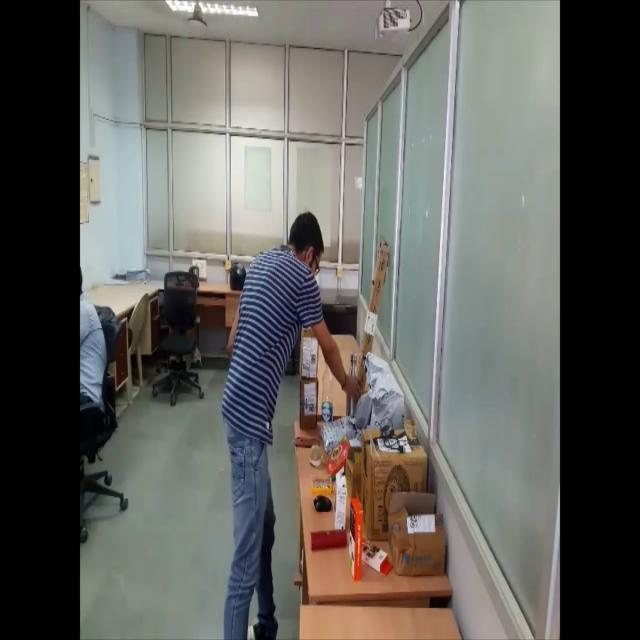normal: (221, 206, 346, 640)
